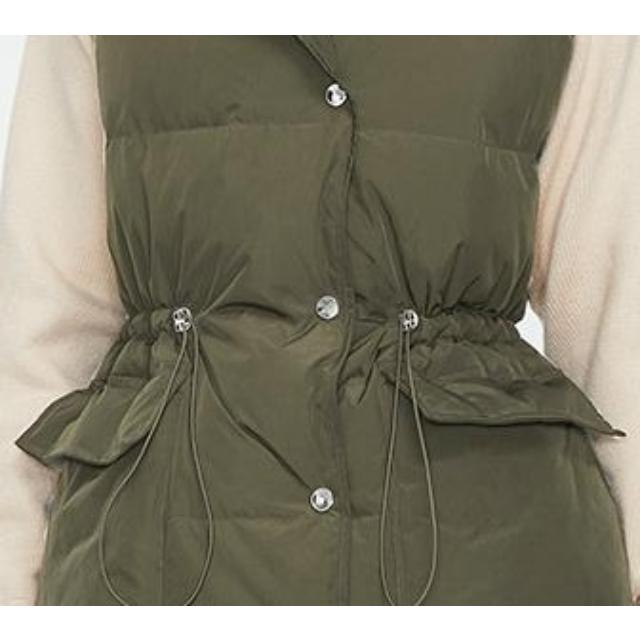polyester: (84, 34, 590, 606)
